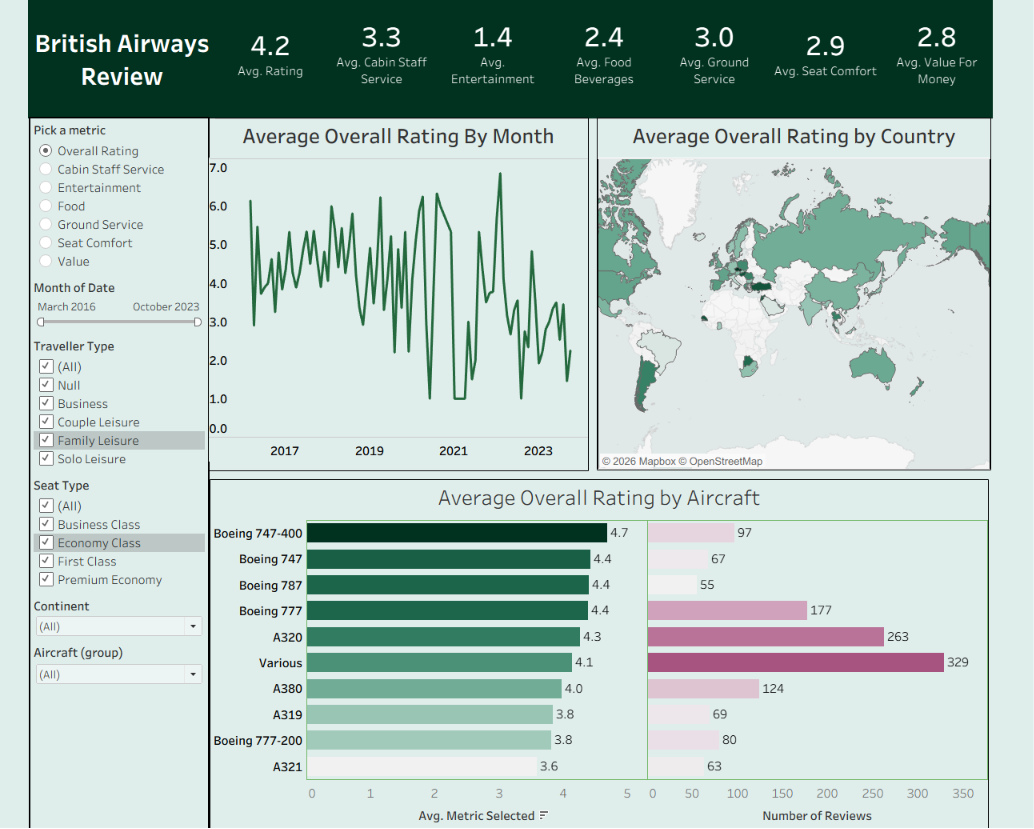

The page's visual inventory and layout, read from the dashboard file:
{"tool":"tableau","page":{"name":"Dashboard 1","canvas":[1000,1000],"units":"permille","ordinal":0},"visuals":[{"type":"worksheet","title":"Month","mark":"Automatic","rows":["Calculation_2430491478687745"],"cols":["date"],"box":[185,141,396.7,424.1]},{"type":"worksheet","title":"Map","mark":"Automatic","box":[590,141,410.8,422.9]},{"type":"parameter","param":"[Parameters].[Parameter 1]","box":[0,142.3,185,227.8]},{"type":"filter","title":"Map","param":"[federated.1amhm7d1c7csmw143vl0701o4p9i].[tmn:date:qk]","box":[0,370.1,185,84.4]},{"type":"filter","title":"Map","param":"[federated.1amhm7d1c7csmw143vl0701o4p9i].[none:traveller_type:nk]","box":[0,454.4,185,201.2]},{"type":"worksheet","title":"Aircraft","mark":"Automatic","cols":["Calculation_2430491478687745","ba_reviews.csv_9CD3784C82A64313A3CA30593D3DA484"],"box":[186.7,574.7,811.7,421.7]},{"type":"filter","title":"Map","param":"[federated.1amhm7d1c7csmw143vl0701o4p9i].[none:seat_type:nk]","box":[0,655.6,185,174.6]},{"type":"filter","title":"Map","param":"[federated.1amhm7d1c7csmw143vl0701o4p9i].[none:Continent:nk]","box":[0,830.2,185,67]},{"type":"filter","title":"Map","param":"[federated.1amhm7d1c7csmw143vl0701o4p9i].[Aircraft (group)]","box":[0,897.2,185,70.5]}]}

Visuals, with their boxes on the dashboard's canvas, which has no fixed pixel size, in thousandths of its width and height (x1, y1, x2, y2). These are canvas units, not pixel positions in the 1034x829 screenshot, which may show the page scaled, cropped or inside an application window:
"Month" worksheet: (185, 141, 582, 565)
"Map" worksheet: (590, 141, 1001, 564)
parameter: (0, 142, 185, 370)
"Map" filter: (0, 370, 185, 454)
"Map" filter: (0, 454, 185, 656)
"Aircraft" worksheet: (187, 575, 998, 996)
"Map" filter: (0, 656, 185, 830)
"Map" filter: (0, 830, 185, 897)
"Map" filter: (0, 897, 185, 968)
